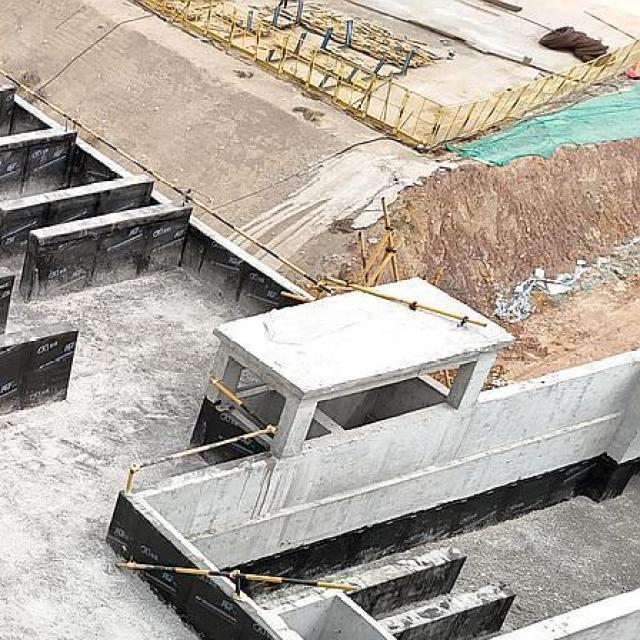edge_guardrail: (0, 69, 336, 297), (123, 376, 278, 497), (326, 266, 489, 328), (115, 562, 359, 597)
